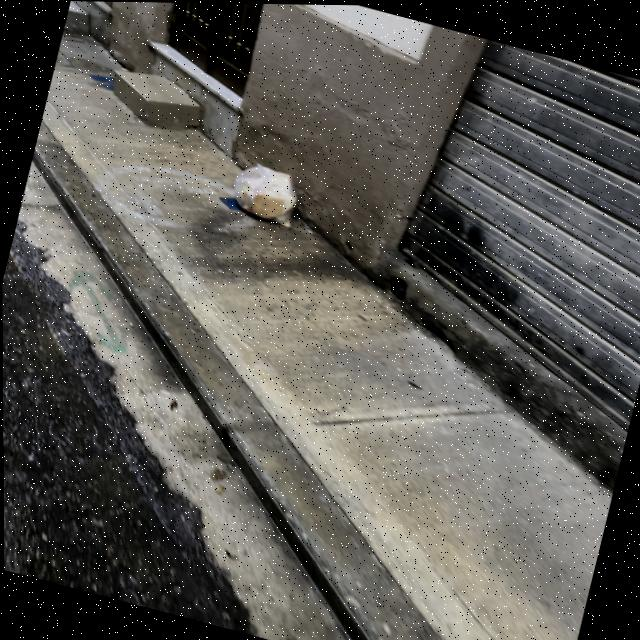Organic Waste -White Bag-: (224, 159, 308, 232)
